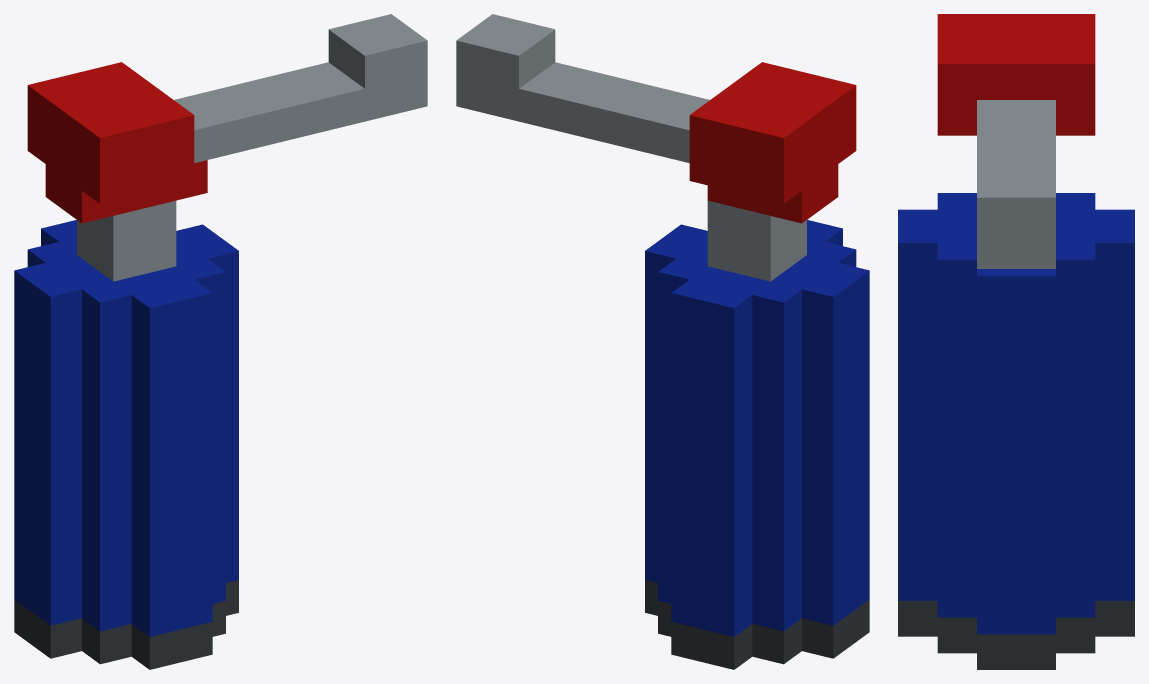
File: blowtorch.glb
3 views of the same model, side by side, from view 1: azimuth 30°, elevation 25°; view 2: azimuth 150°, elevation 25°; view 3: azimuth 270°, elevation 25° (orthographic). The views are drawn at different scales.
Parts seen in each view (by area): view 1: equipment:blowtorch; view 2: equipment:blowtorch; view 3: equipment:blowtorch.
Part boxes in pixels (x1,y1,x2,y2): equipment:blowtorch: [14, 14, 427, 669]; equipment:blowtorch: [456, 14, 869, 669]; equipment:blowtorch: [898, 14, 1134, 669].
Bounding box in the file's own units: 0.12 × 0.16 × 0.06.
